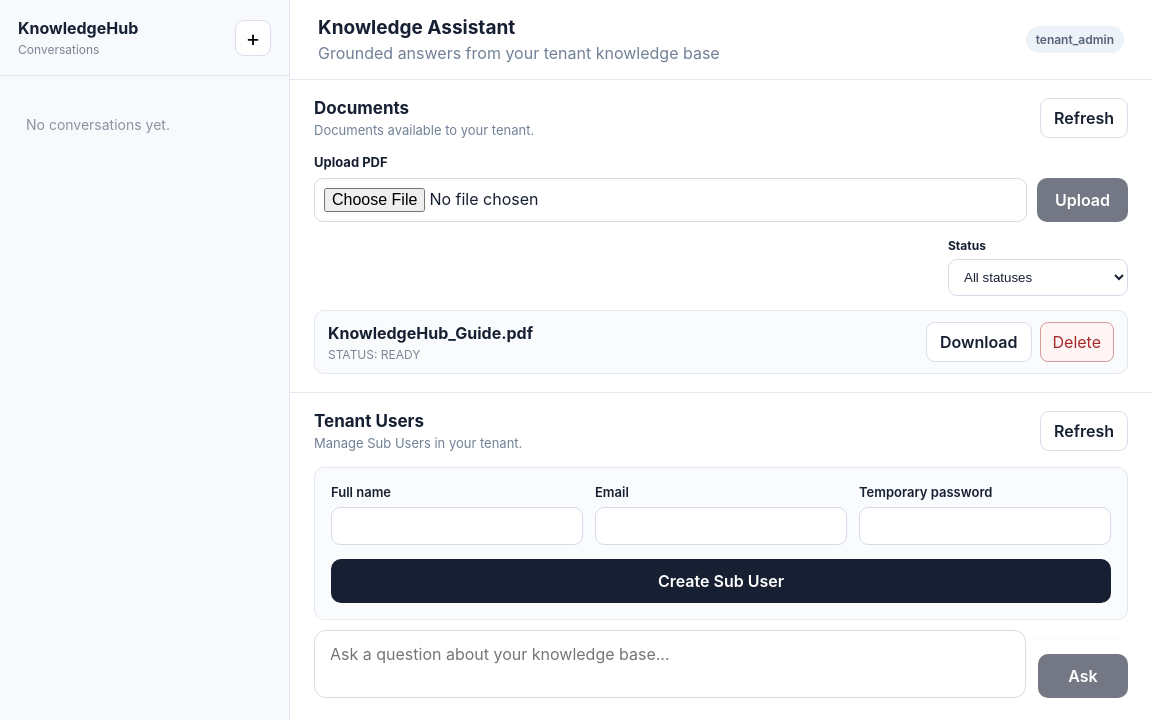
Test: allows a Tenant Admin to delete a document
Expected: the text "KnowledgeHub_Guide.pdf" is shown, [328, 322, 533, 342]
Click the button "Delete" at [1077, 342], box [1040, 322, 1114, 362]
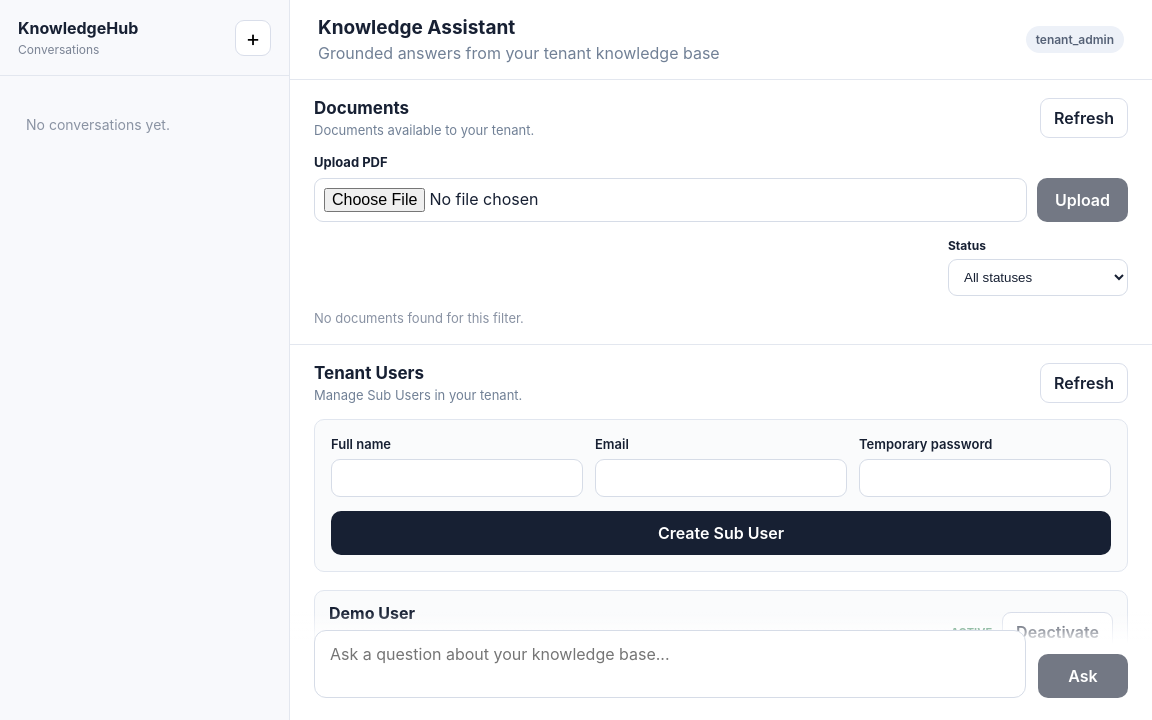
Result: the text "KnowledgeHub_Guide.pdf" is gone
